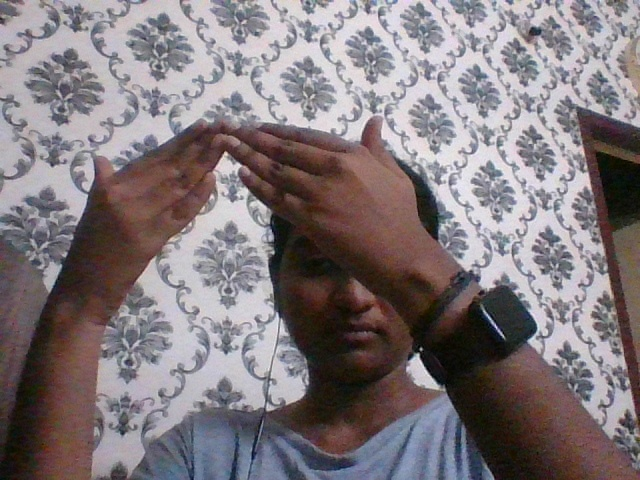thanks: (64, 111, 415, 239)
